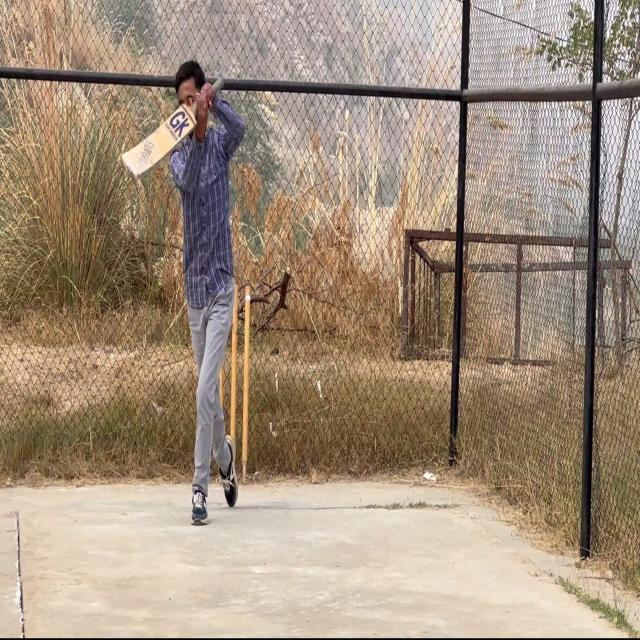Batsman: (159, 52, 257, 536)
